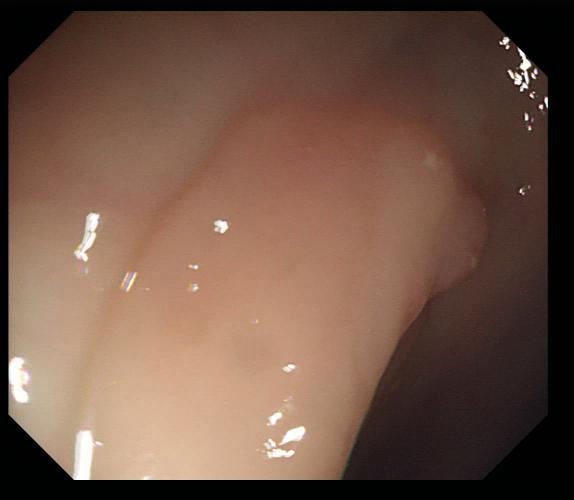polyp: (434, 185, 491, 300), (407, 129, 455, 194)
